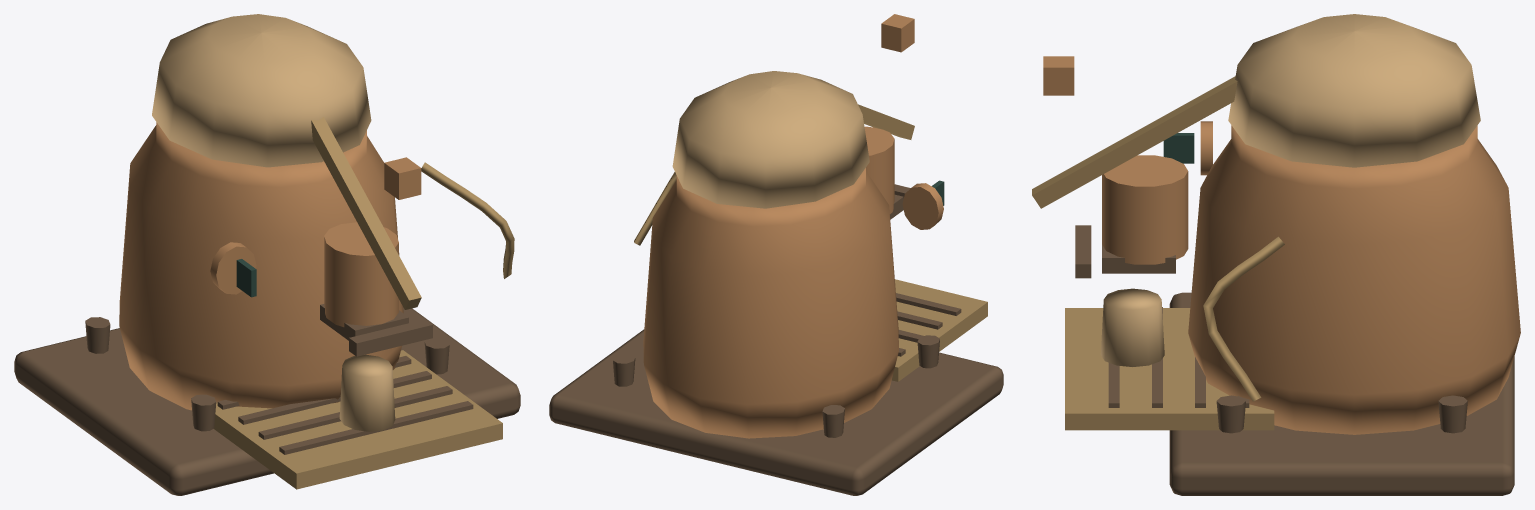
The model's file is kitchencoffeemachine.glb.
3 views of the same model, side by side, from view 1: azimuth 30°, elevation 25°; view 2: azimuth 150°, elevation 25°; view 3: azimuth 270°, elevation 25° (orthographic). The views are drawn at different scales.
Parts seen in each view (by area): view 1: atelier-warm-kitchencoffeemachine; view 2: atelier-warm-kitchencoffeemachine; view 3: atelier-warm-kitchencoffeemachine.
Boxes of the visible parts, x1,y1,x2,y2 form: atelier-warm-kitchencoffeemachine: (14,14,520,495); atelier-warm-kitchencoffeemachine: (549,14,1003,495); atelier-warm-kitchencoffeemachine: (1032,14,1520,495).
Size of the model in its own units: 1.09 by 1 by 1.17.
